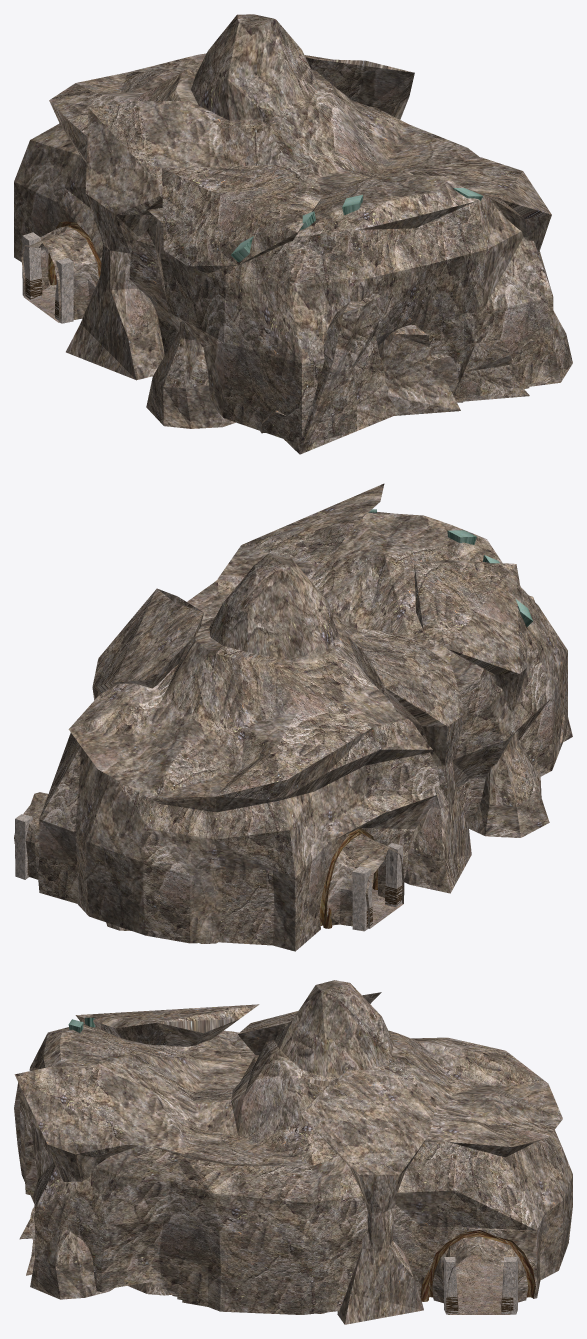
Rendered from thm_dath_mtn_clan_stronghold_r6_throne_mesh_r6.fbx.
3 renders of one model, top to bottom at view 1: azimuth 30°, elevation 25°; view 2: azimuth 150°, elevation 25°; view 3: azimuth 270°, elevation 25°, orthographic. The views are drawn at different scales.
Visible parts, largest first — view 1: mesh_node; view 2: mesh_node; view 3: mesh_node.
Part boxes in pixels (<box>): mesh_node: <box>14,14,572,454</box>; mesh_node: <box>14,483,572,951</box>; mesh_node: <box>14,980,572,1324</box>.
Size of the model in its own units: 19.96 by 15.27 by 29.5.
